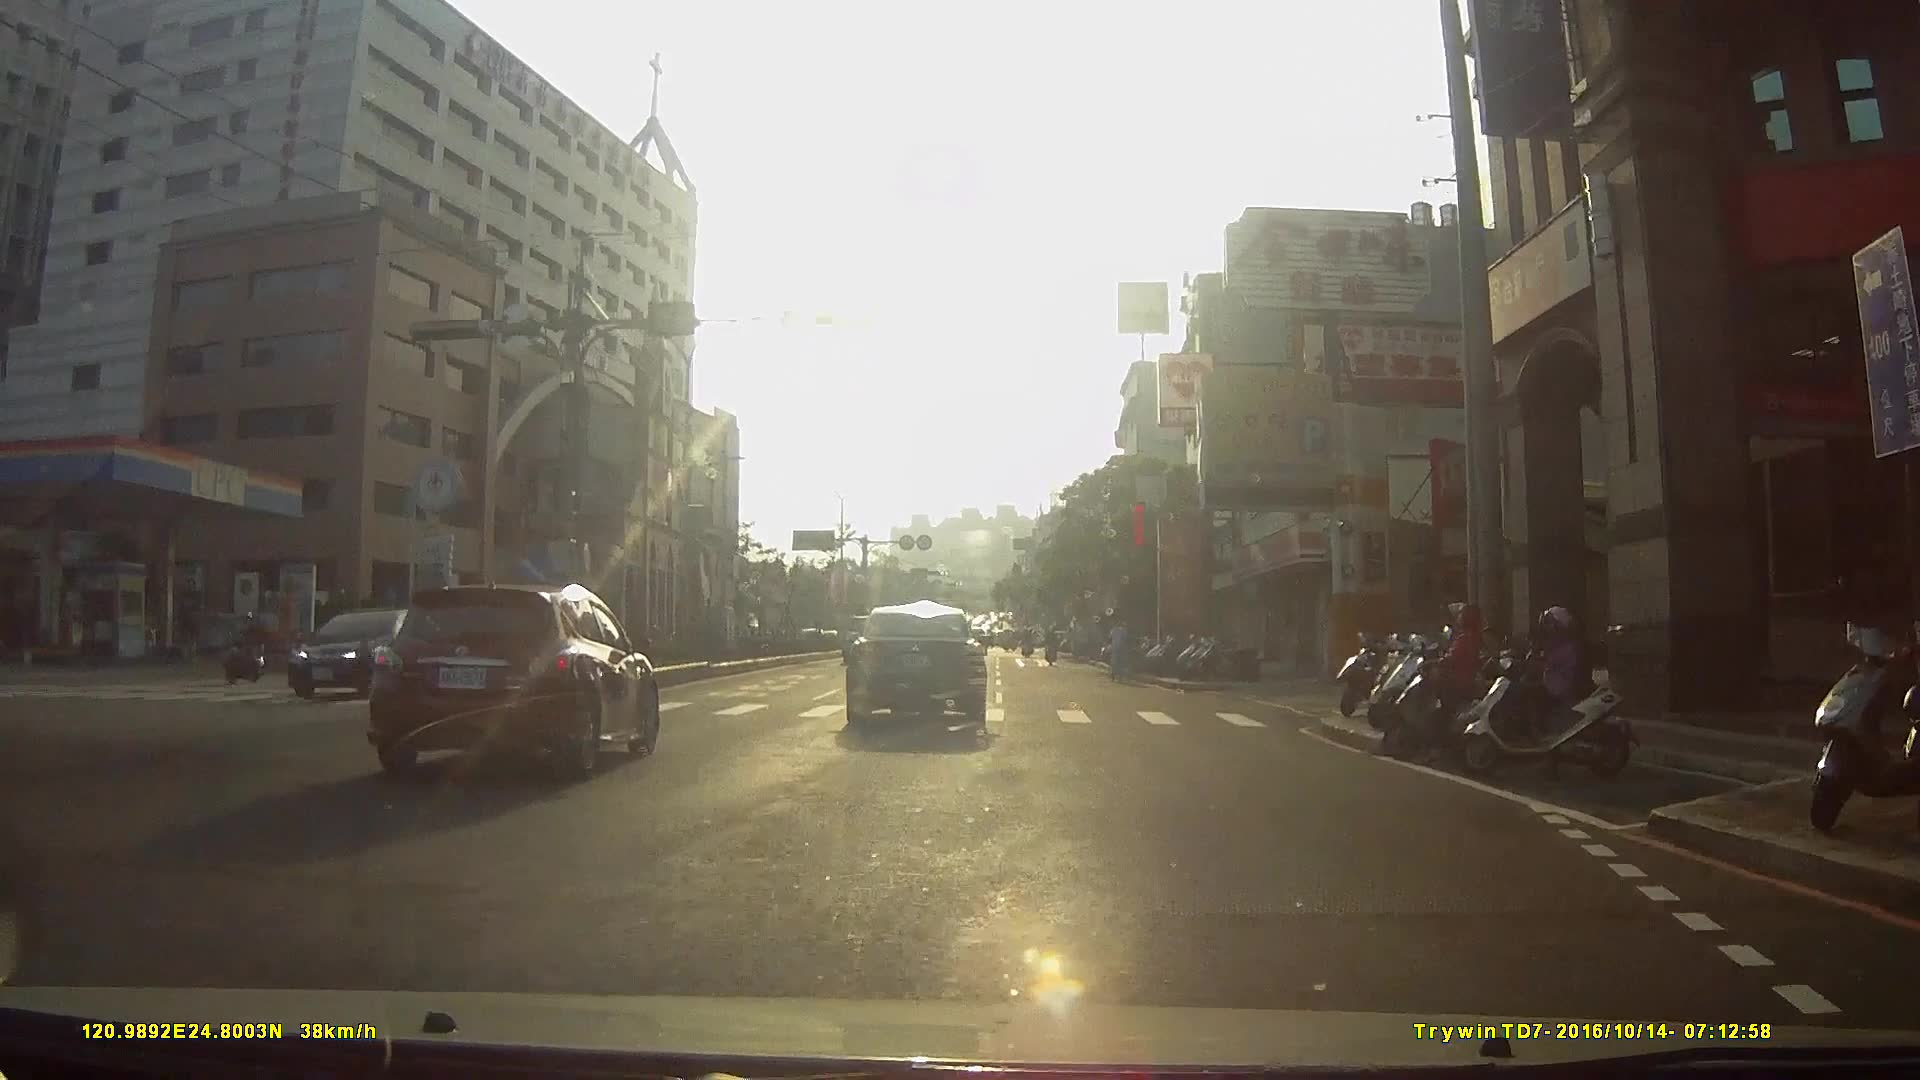rider: (1452, 602, 1643, 787), (1377, 601, 1535, 770), (224, 606, 270, 683), (1106, 617, 1133, 684)
vehicle: (369, 579, 668, 796), (274, 603, 473, 712), (851, 611, 1002, 745), (763, 607, 822, 662)
